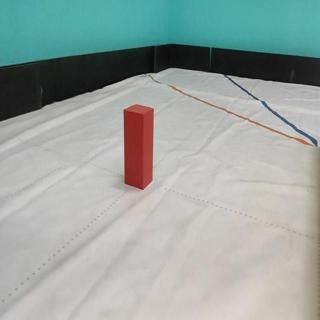redbox: (123, 101, 154, 190)
